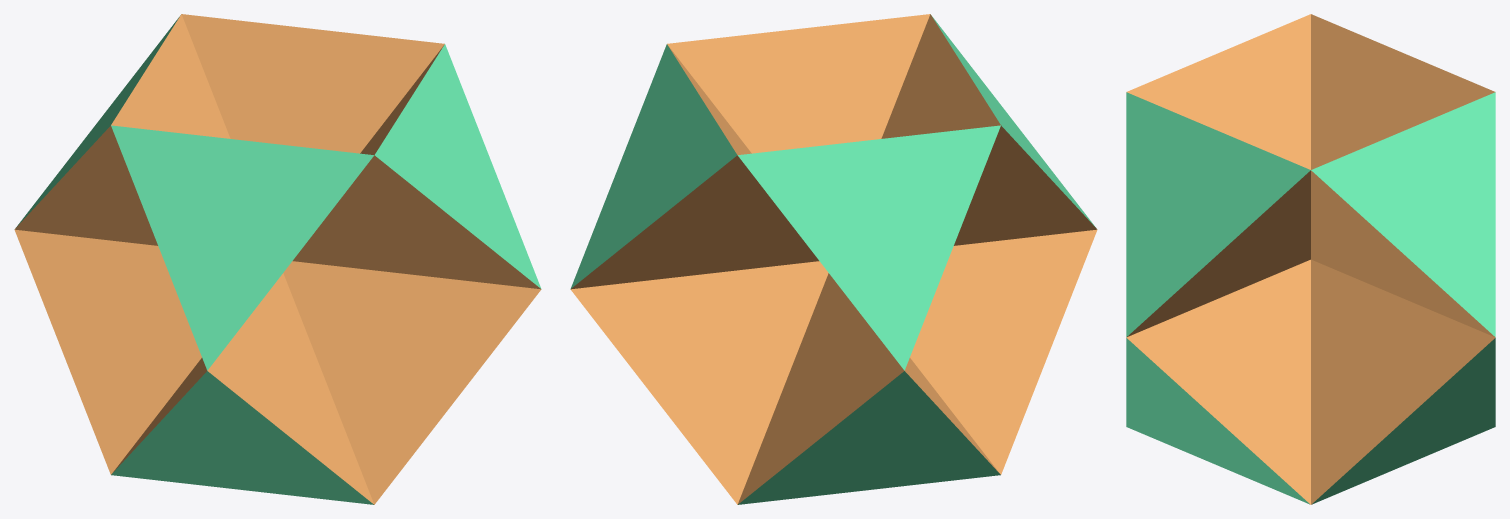
The picture shows the model from 3 angles, left to right: view 1: azimuth 30°, elevation 25°; view 2: azimuth 150°, elevation 25°; view 3: azimuth 270°, elevation 25°; orthographic projection. The views are drawn at different scales.
Visible parts, largest first — view 1: Octahemioctahedron; view 2: Octahemioctahedron; view 3: Octahemioctahedron.
Boxes of the visible parts, box(x1,y1,x2,y2) form: Octahemioctahedron: box(14, 14, 541, 504); Octahemioctahedron: box(570, 14, 1097, 504); Octahemioctahedron: box(1126, 14, 1495, 504).
Size of the model in its own units: 1.41 by 1.41 by 1.41.
